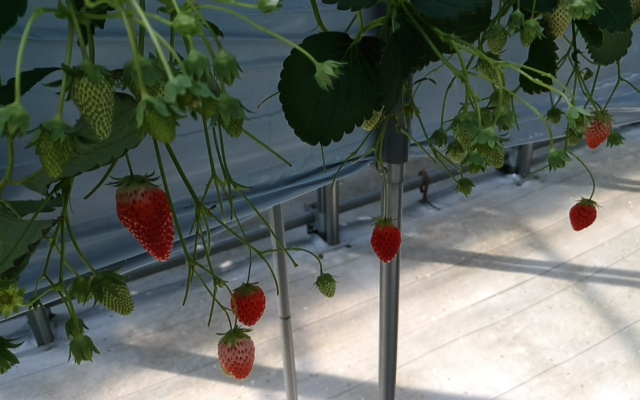GreenStrawberry: (67, 66, 115, 142), (122, 57, 168, 112), (33, 118, 73, 178), (90, 270, 134, 317), (138, 98, 181, 144), (214, 95, 245, 138), (540, 1, 574, 40), (451, 112, 484, 152), (475, 49, 507, 87), (477, 129, 507, 168), (485, 22, 510, 56), (488, 90, 512, 117), (315, 274, 336, 298), (448, 140, 467, 163)
MatureStrawberry: (115, 176, 177, 264), (218, 328, 255, 382), (229, 284, 267, 328), (371, 218, 402, 264), (584, 111, 613, 151), (568, 199, 599, 232)
